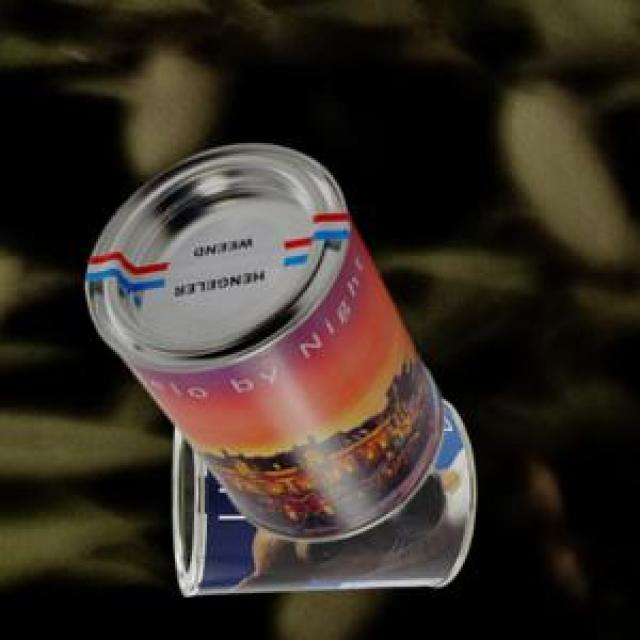logam: (82, 140, 441, 539), (170, 397, 473, 592)
